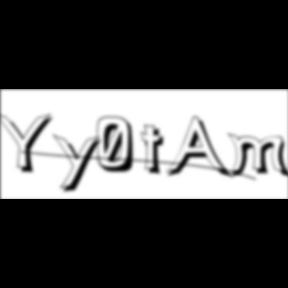0: (98, 115, 142, 174)
A: (166, 116, 234, 182)
Y: (1, 110, 60, 176)
t: (142, 124, 172, 179)
y: (53, 132, 107, 196)
